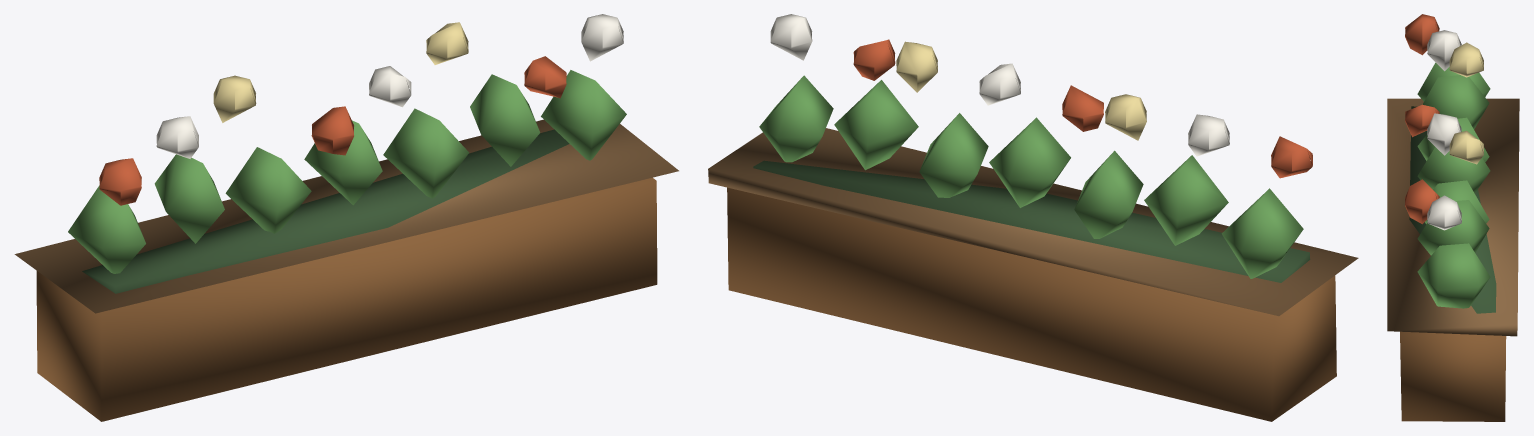
The model's file is lod_window_flower_box.glb.
The picture shows the model from 3 angles, left to right: view 1: azimuth 30°, elevation 25°; view 2: azimuth 150°, elevation 25°; view 3: azimuth 270°, elevation 25°; orthographic projection. The views are drawn at different scales.
Parts seen in each view (by area): view 1: window_flower_box; view 2: window_flower_box; view 3: window_flower_box.
Boxes of the visible parts, left/top/right/bottom form: window_flower_box: left=14, top=14, right=678, bottom=421; window_flower_box: left=708, top=14, right=1358, bottom=421; window_flower_box: left=1387, top=14, right=1519, bottom=421.
Bounding box in the file's own units: 1.24 × 0.554 × 0.2975.
